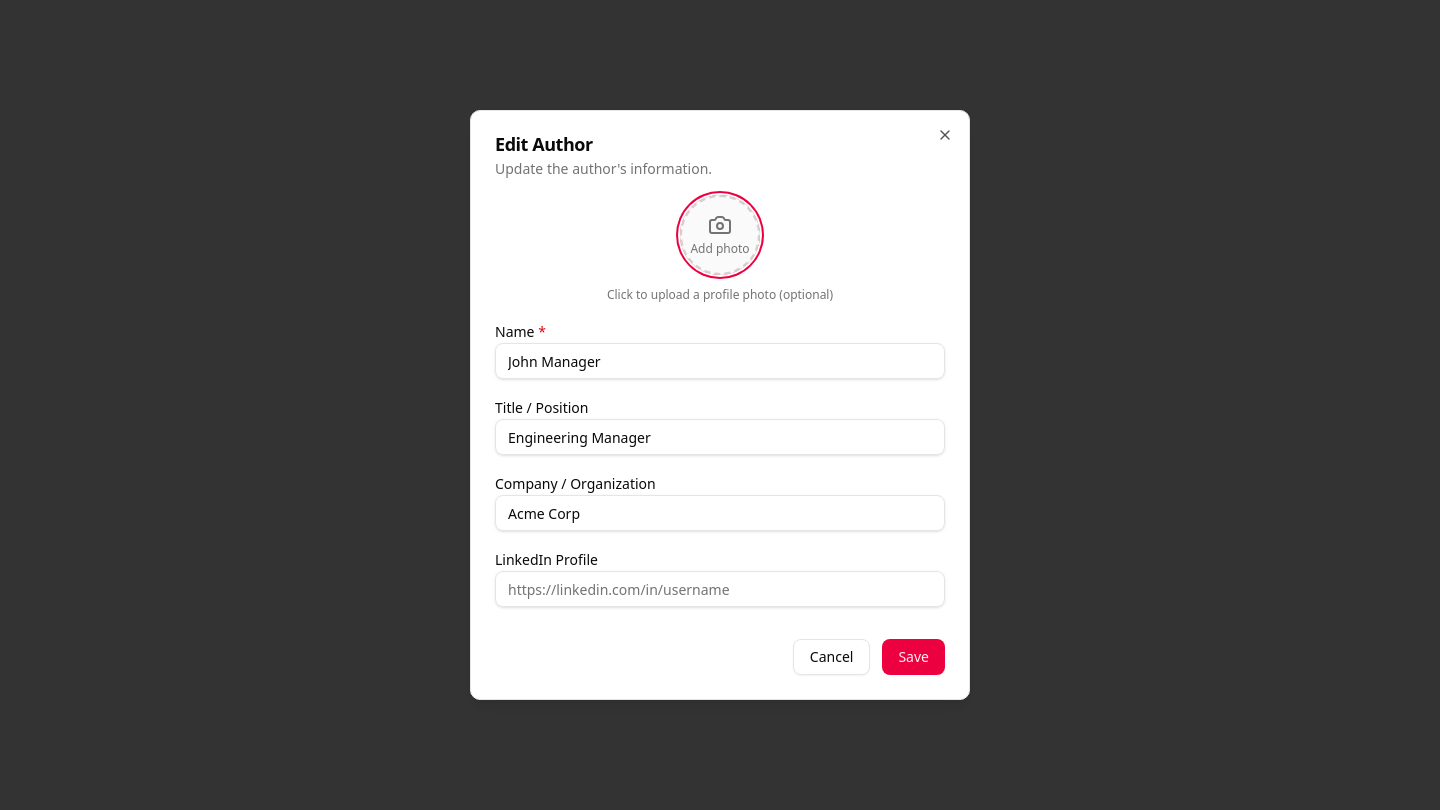
Test case: AuthorEditModal › Validation › shows error for invalid LinkedIn URL
Step 1. Type "https://twitter.com/user" into the field labelled "LinkedIn Profile" → (720, 589), box [495,571,945,607]
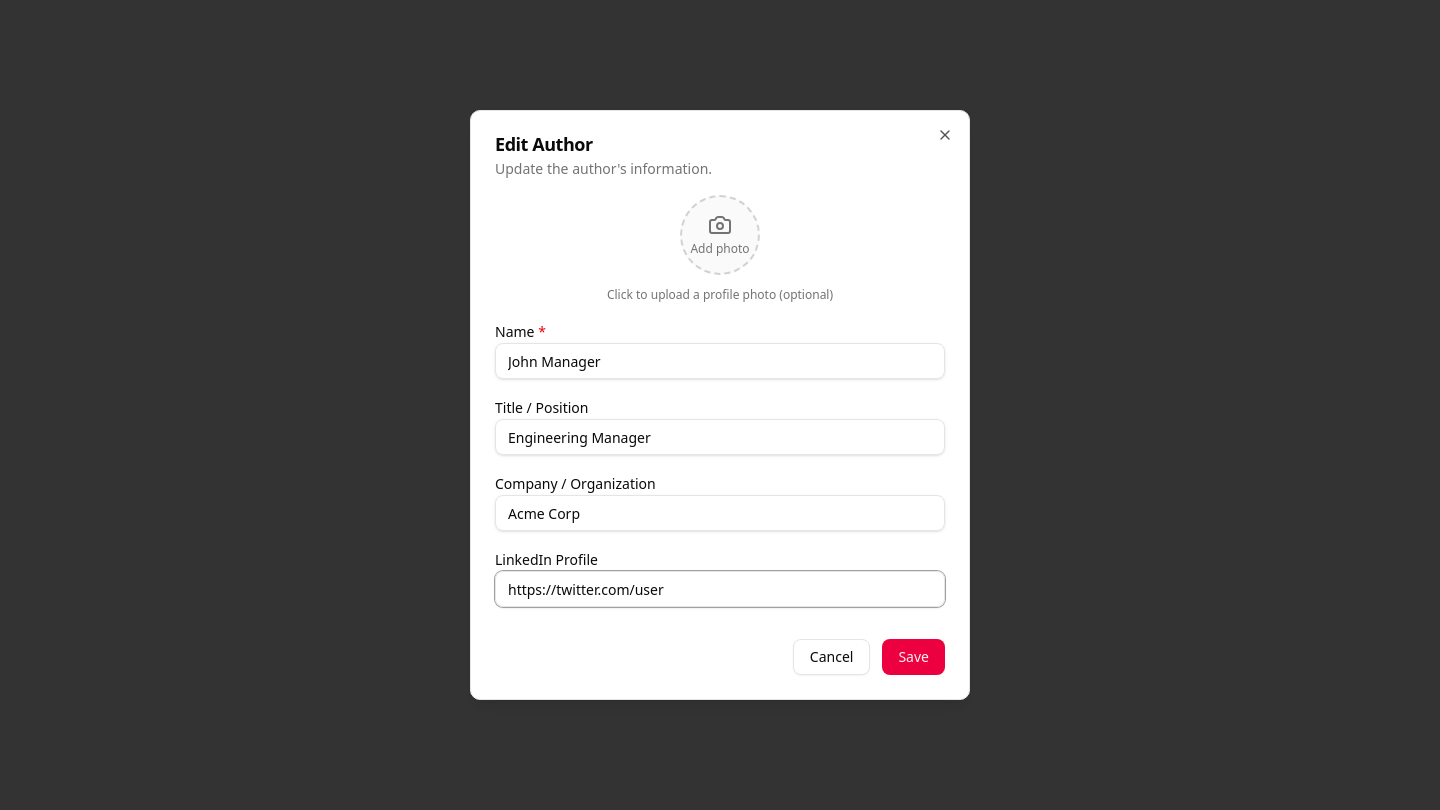
Step 2. Click the button "Save" → (914, 657), box [882,639,945,675]
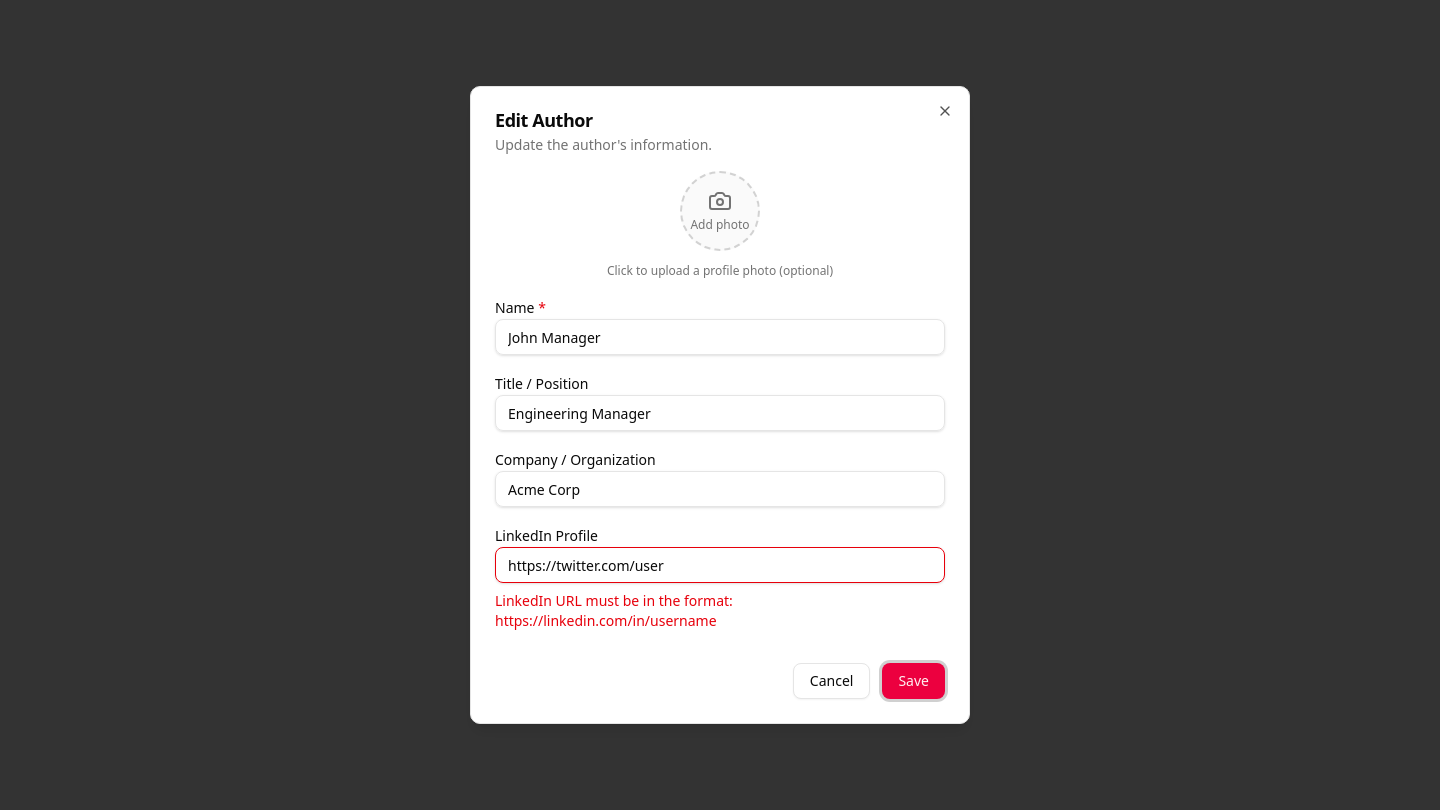
expect the text "LinkedIn URL must be in the format: https://linkedin.com/in/username" is shown: met, box [495,591,733,630]
